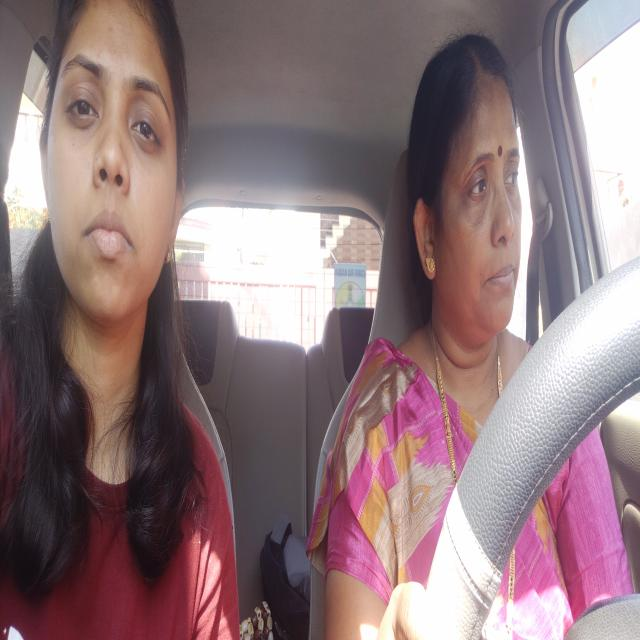person: (34, 1, 196, 332), (406, 28, 526, 355)
